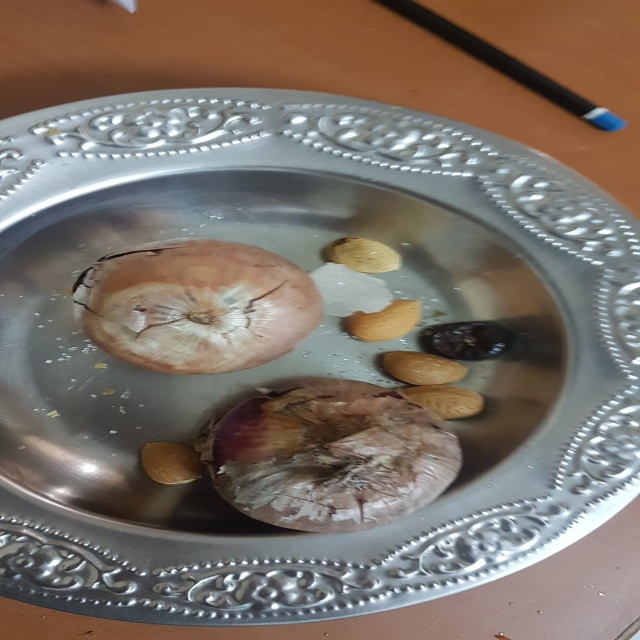onion: (213, 377, 465, 533), (65, 236, 331, 365)
